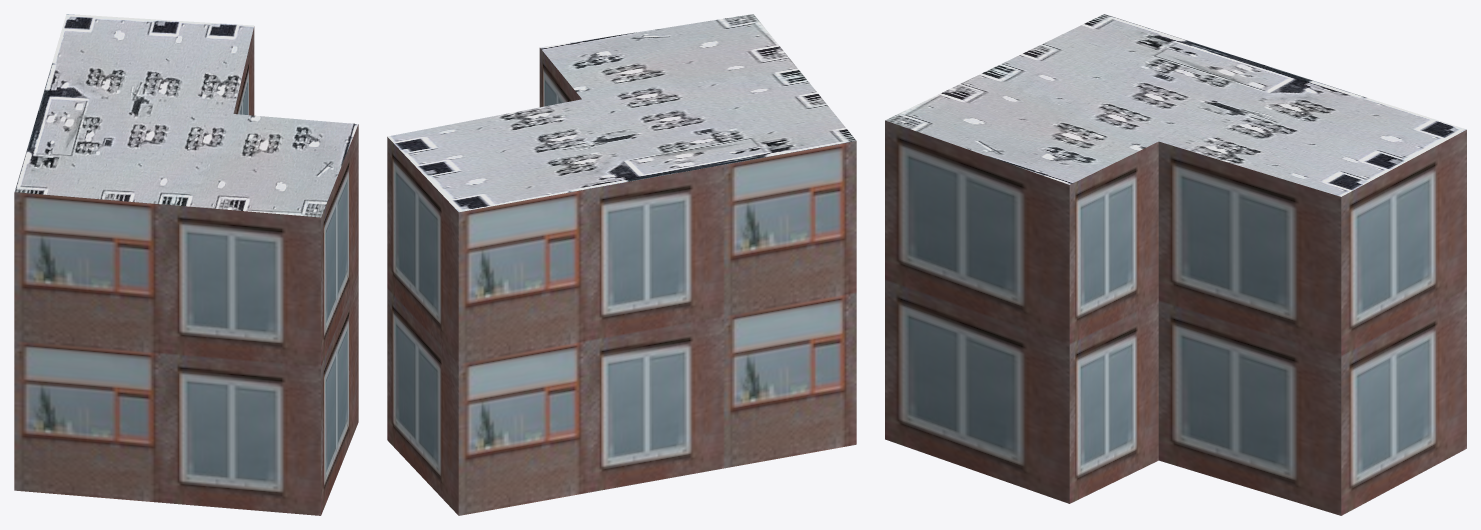
The model's file is ResTex__3580.fbx.
3 renders of one model, left to right at view 1: azimuth 30°, elevation 25°; view 2: azimuth 150°, elevation 25°; view 3: azimuth 270°, elevation 25°, orthographic. The views are drawn at different scales.
Parts seen in each view (by area): view 1: CityEngineMaterial_19_m, CityEngineMaterial_15_m; view 2: CityEngineMaterial_19_m, CityEngineMaterial_15_m; view 3: CityEngineMaterial_19_m, CityEngineMaterial_15_m.
Part boxes in pixels (box(x1,y1,x2,y2)): CityEngineMaterial_19_m: box(14, 26, 358, 515); CityEngineMaterial_15_m: box(14, 14, 358, 217); CityEngineMaterial_19_m: box(387, 48, 856, 515); CityEngineMaterial_15_m: box(387, 14, 856, 212); CityEngineMaterial_19_m: box(885, 120, 1466, 515); CityEngineMaterial_15_m: box(885, 14, 1466, 196).
Size of the model in its own units: 7.38 by 6 by 9.92.
Materials: 2 (2 with a texture image).
